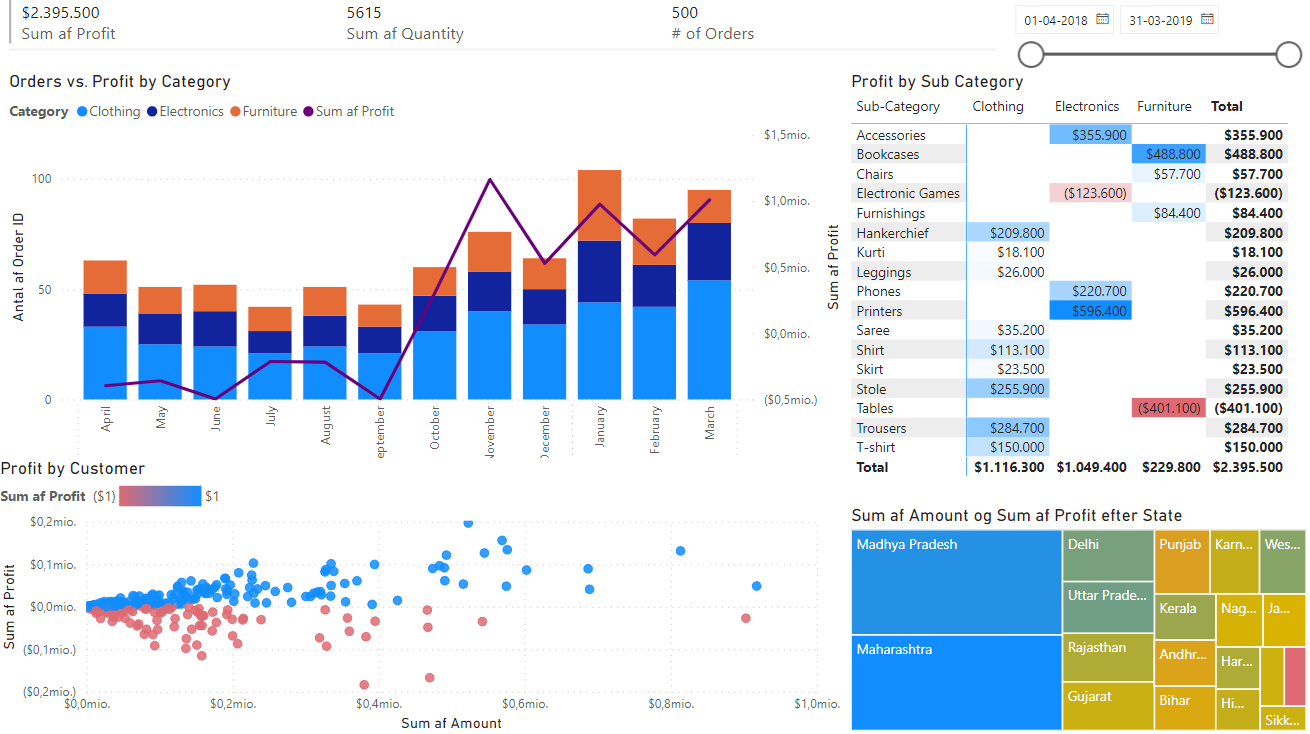

Layout of this report page (visuals, bound fields, positions):
{"tool":"powerbi","page":{"name":"Profit Analysis","canvas":[1280,720],"ordinal":0},"visuals":[{"type":"multiRowCard","fields":{"Values":["Sum(Order Details.Profit)","Sum(Order Details.Quantity)","List of Orders.Order ID"]},"box":[9.2,0,970.5,73.9],"z":0},{"type":"lineStackedColumnComboChart","title":"Orders vs. Profit by Category","fields":{"Category":["List of Orders.Order Date.Variation.Date Hierarchy.Year","List of Orders.Order Date.Variation.Date Hierarchy.Month"],"Series":["Order Details.Category"],"Y2":["Sum(Order Details.Profit)"],"Y":["CountNonNull(List of Orders.Order ID)"]},"box":[9.2,73.9,818.1,421.8],"z":1000},{"type":"pivotTable","title":"Profit by Sub Category","fields":{"Rows":["Order Details.Sub-Category"],"Columns":["Order Details.Category"],"Values":["Sum(Order Details.Profit)"]},"box":[827.3,73.9,453.2,421.8],"z":2000},{"type":"scatterChart","title":"Profit by Customer","fields":{"Category":["List of Orders.CustomerName"],"X":["Sum(Order Details.Amount)"],"Y":["Sum(Order Details.Profit)"]},"box":[0,449.9,827.3,270.7],"z":3000},{"type":"treemap","fields":{"Values":["Sum(Order Details.Amount)"],"Group":["List of Orders.State"]},"box":[827.3,495.7,452.5,224.3],"z":4000},{"type":"slicer","fields":{"Values":["List of Orders.Order Date"]},"box":[979.6,0,300.2,73.9],"z":5000}]}

Visuals, with their boxes in screenshot pixels (x1, y1, x2, y2), scaled from the page's 1280x720 canvas onto the 1310x734 screenshot:
multiRowCard - Sum(Order Details.Profit) x Sum(Order Details.Quantity): x1=9, y1=0, x2=1003, y2=75
"Orders vs. Profit by Category" lineStackedColumnComboChart: x1=9, y1=75, x2=847, y2=505
"Profit by Sub Category" pivotTable: x1=847, y1=75, x2=1309, y2=505
"Profit by Customer" scatterChart: x1=0, y1=459, x2=847, y2=733
treemap - Sum(Order Details.Amount) x List of Orders.State: x1=847, y1=505, x2=1309, y2=733
slicer - List of Orders.Order Date: x1=1003, y1=0, x2=1309, y2=75
